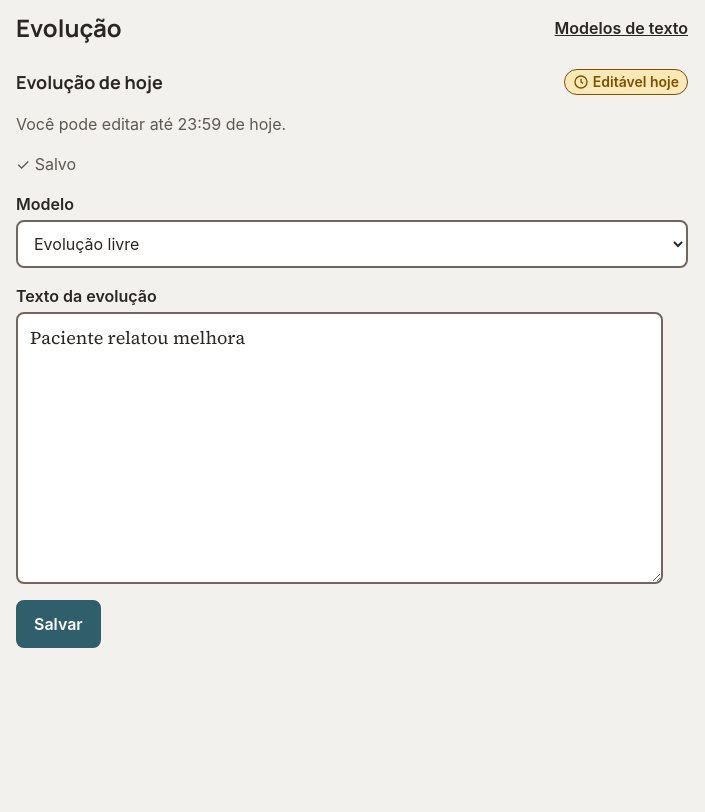
Test case: Meia-noite com a tela aberta (EVO-04, EVO-05) › salvar a retificação oferecida envia texto e motivo e avisa o sucesso
Replace the text in the text box labelled "Texto da evolução" with "Texto novo": x=340, y=448 x1=16 y1=312 x2=664 y2=584
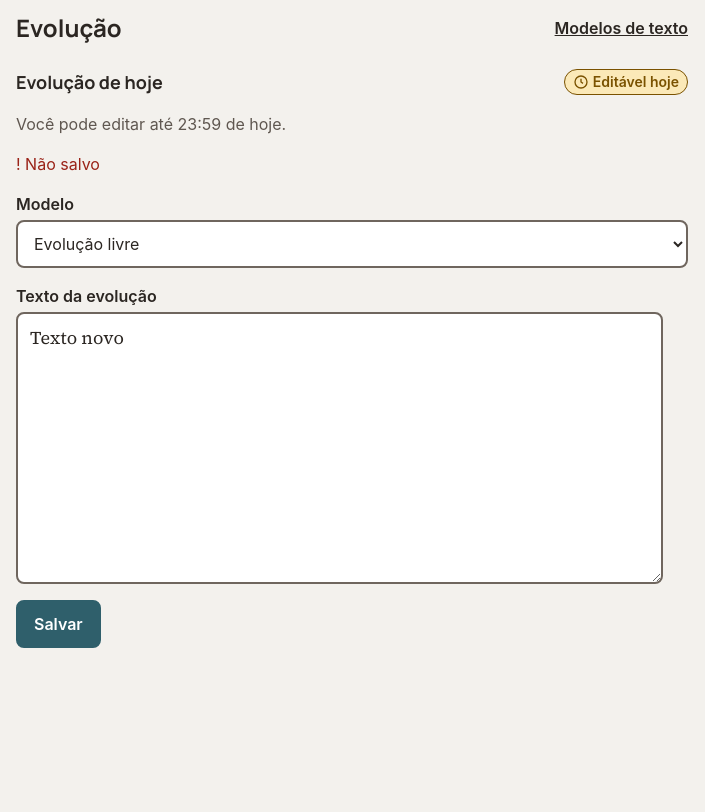
Click the button "Salvar": x=58, y=624 x1=16 y1=600 x2=101 y2=648
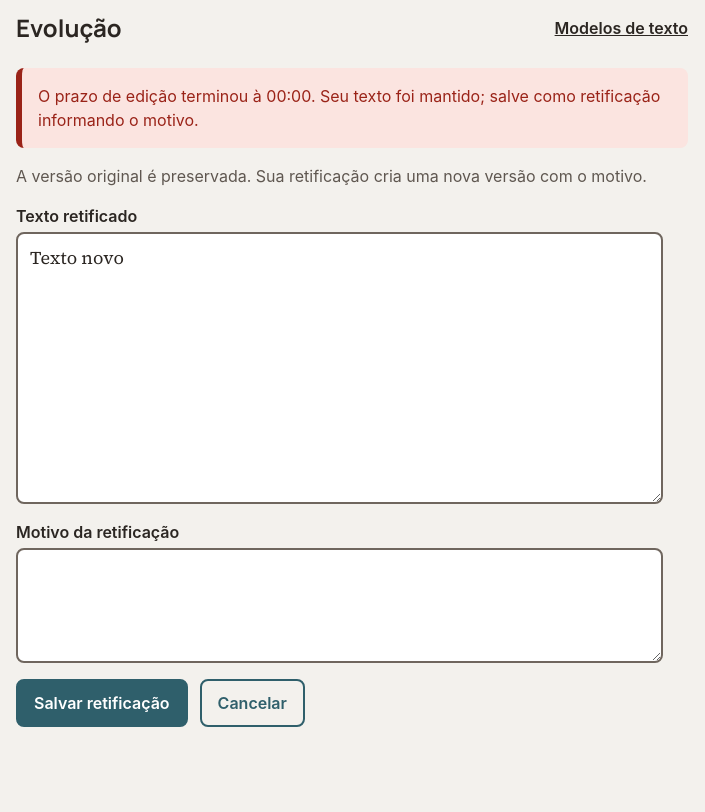
Now the form named "Retificar evolução" is shown
In the text box labelled "Motivo da retificação": x=340, y=605 x1=16 y1=548 x2=664 y2=662, type "Virou a meia-noite"
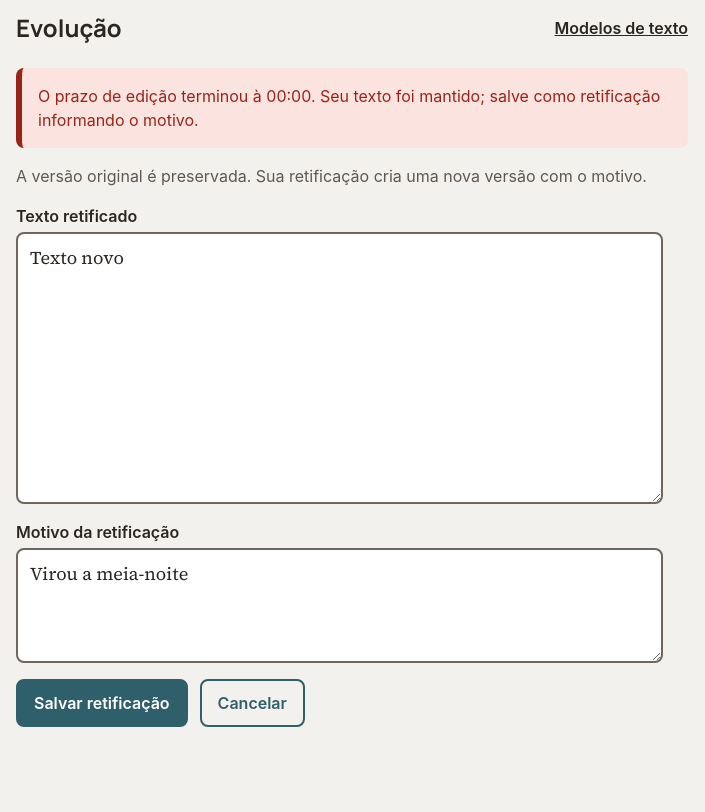
Click the button "Salvar retificação": x=102, y=702 x1=16 y1=678 x2=188 y2=726
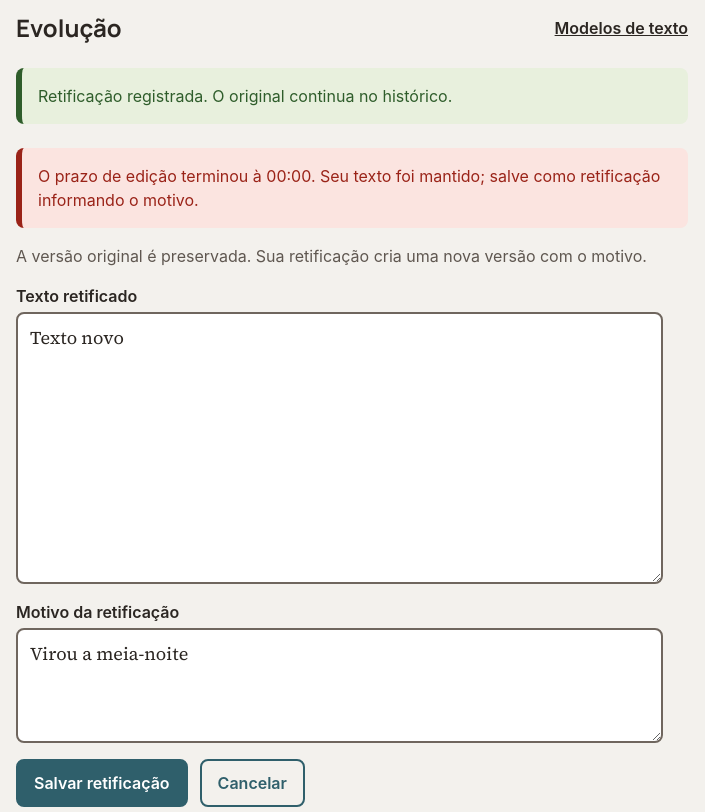
Now the text "Retificação registrada. O original continua no histórico." is shown, box x1=16 y1=68 x2=688 y2=124
